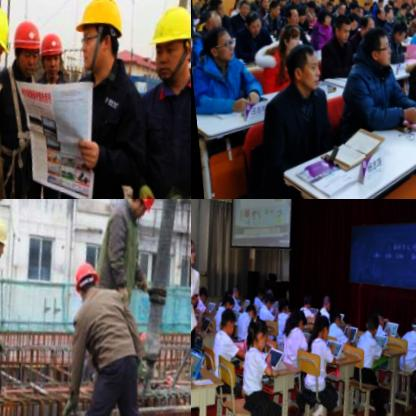head: (277, 40, 325, 99), (196, 23, 233, 68), (355, 26, 390, 68), (239, 319, 266, 357), (270, 23, 297, 56), (326, 13, 351, 45), (210, 308, 233, 340), (279, 310, 304, 339), (304, 315, 327, 345), (197, 6, 220, 33), (355, 317, 375, 343), (354, 14, 374, 39), (277, 4, 297, 27), (241, 11, 260, 35), (386, 21, 404, 45), (269, 294, 287, 318), (309, 9, 329, 28), (323, 309, 339, 330), (313, 295, 328, 317), (365, 309, 380, 330), (261, 0, 278, 18), (203, 0, 222, 16), (340, 13, 356, 32), (404, 317, 416, 341), (237, 304, 252, 323), (224, 285, 238, 305), (296, 295, 310, 314), (231, 0, 246, 17), (370, 5, 384, 23), (191, 287, 203, 306), (217, 297, 230, 314), (248, 288, 261, 305), (256, 294, 268, 312), (392, 5, 405, 21), (331, 2, 344, 17), (290, 10, 302, 26), (345, 1, 356, 17), (379, 8, 390, 23), (300, 0, 311, 14), (357, 0, 368, 13), (409, 12, 416, 32), (320, 0, 330, 13), (255, 0, 267, 10), (351, 6, 360, 18), (370, 0, 380, 9), (380, 0, 388, 10), (315, 0, 324, 8), (287, 0, 297, 7), (273, 0, 283, 7), (386, 0, 393, 10), (408, 5, 415, 14), (197, 0, 209, 5), (339, 0, 349, 6), (248, 0, 259, 5), (294, 0, 302, 4), (192, 0, 202, 3), (323, 0, 330, 4), (299, 0, 307, 2)
helmet: (58, 0, 131, 90), (135, 0, 191, 93), (1, 15, 45, 87), (63, 258, 101, 309), (31, 31, 67, 84), (0, 0, 16, 83), (122, 199, 159, 223), (0, 210, 10, 262)
